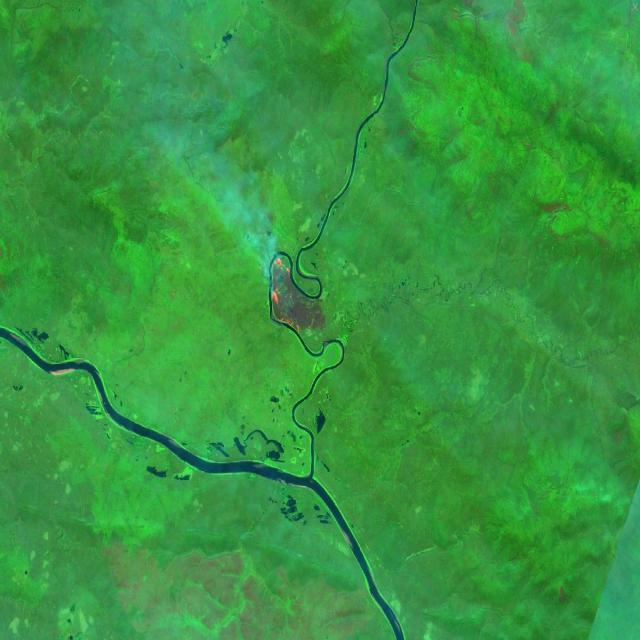fire: (262, 246, 330, 349)
